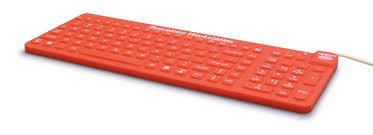keyboard: (5, 7, 360, 118)
